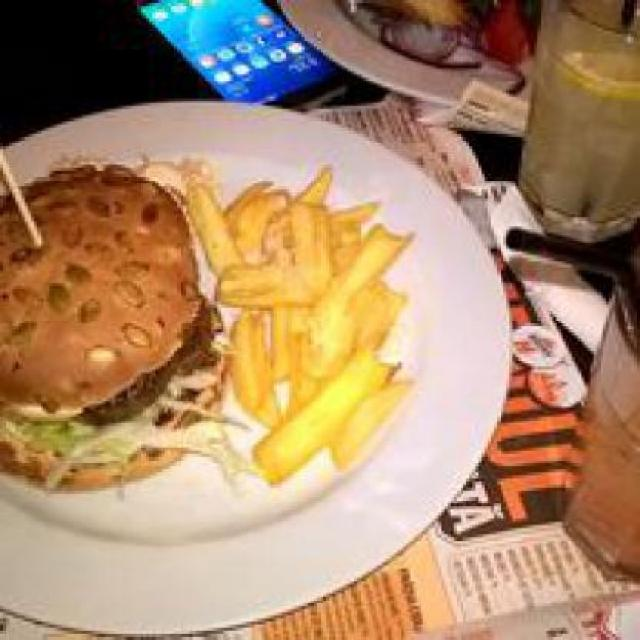french fries: (183, 158, 426, 484)
